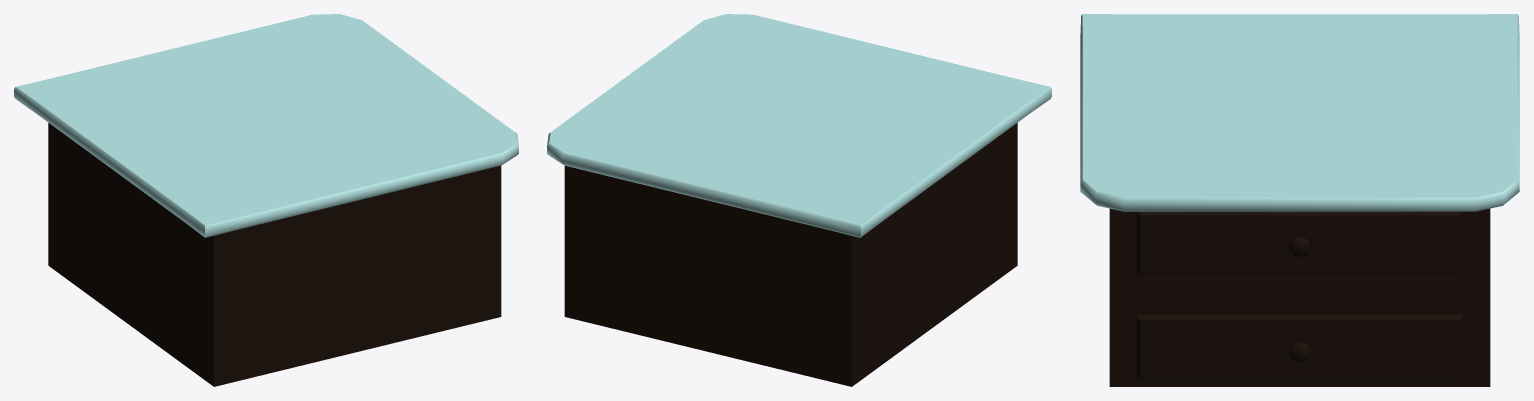
File: wall Counter 1.obj
The picture shows the model from 3 angles, left to right: view 1: azimuth 30°, elevation 25°; view 2: azimuth 150°, elevation 25°; view 3: azimuth 270°, elevation 25°; orthographic projection. The views are drawn at different scales.
Visible parts, largest first — view 1: Cube, Cube.001; view 2: Cube, Cube.001; view 3: Cube.001, Cube, Cube.003, Cube.002.
Boxes of the visible parts, x1=… form: Cube: x1=48, y1=123, x2=501, y2=386; Cube.001: x1=14, y1=14, x2=518, y2=237; Cube: x1=564, y1=123, x2=1017, y2=386; Cube.001: x1=547, y1=14, x2=1051, y2=237; Cube.001: x1=1080, y1=14, x2=1519, y2=211; Cube: x1=1109, y1=208, x2=1490, y2=386; Cube.003: x1=1136, y1=315, x2=1463, y2=378; Cube.002: x1=1136, y1=211, x2=1463, y2=273.
Size of the model in its own units: 2.31 by 1.16 by 2.31.
